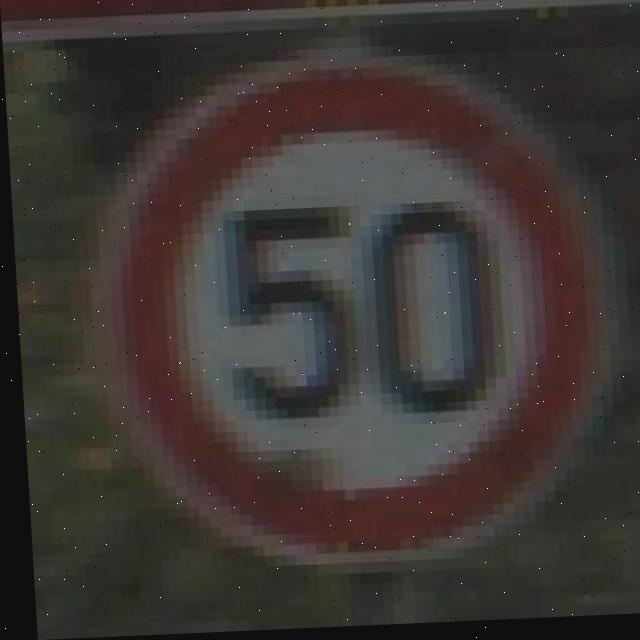Speed limit 50: (81, 40, 622, 578)
